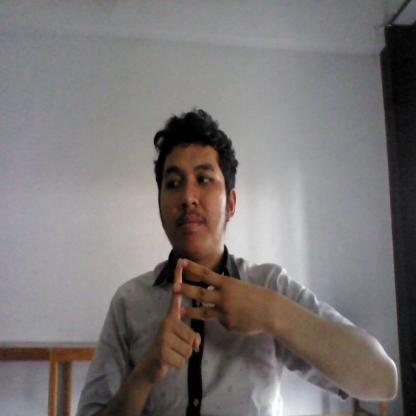B: (146, 258, 248, 376)
